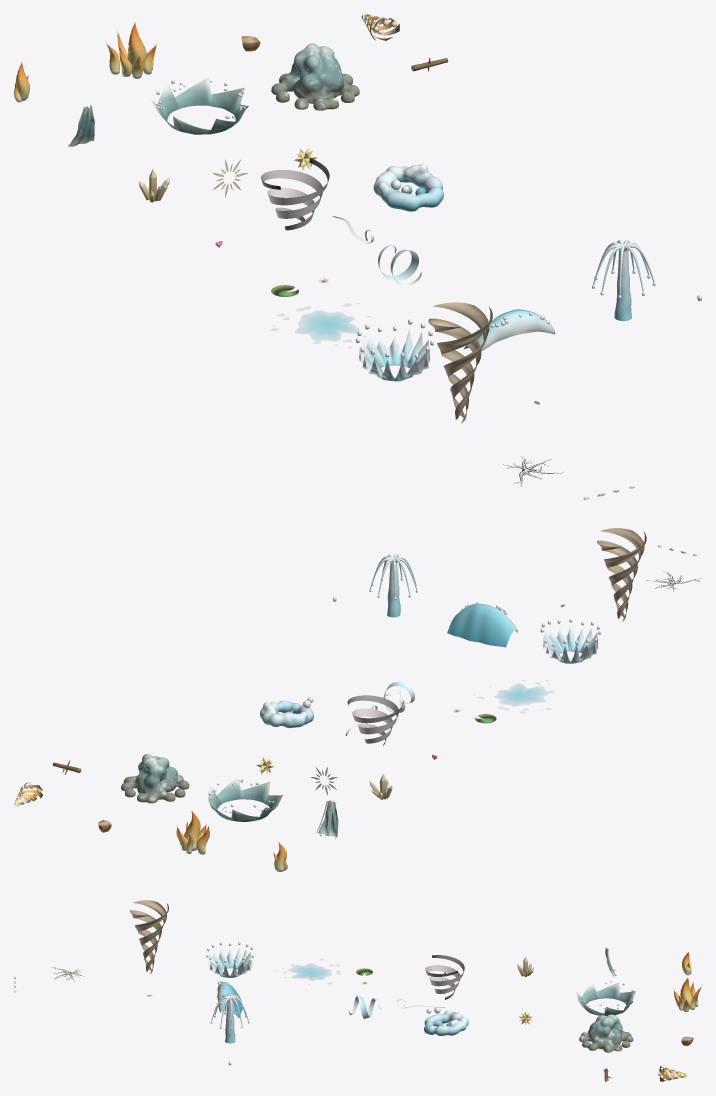
The model's file is impacto_fx.glb.
The picture shows the model from 3 angles, top to bottom: view 1: azimuth 30°, elevation 25°; view 2: azimuth 150°, elevation 25°; view 3: azimuth 270°, elevation 25°; orthographic projection. The views are drawn at different scales.
Parts seen in each view (by area): view 1: Enxurrada, Redemoinho, Correnteza, Coroa, Nuvem, Vento, Jato, Espuma, Onda, Labareda; view 2: Enxurrada, Onda, Redemoinho, Correnteza, Coroa, Vento, Nuvem, Jato, Espuma, Labareda, Cachoeira; view 3: Enxurrada, Redemoinho, Correnteza, Coroa, Nuvem, Vento, Jato, Espuma, Labareda, Onda, Espiral.
Part boxes in pixels (<box>): Enxurrada: <box>271,43,359,110</box>; Redemoinho: <box>428,302,492,423</box>; Correnteza: <box>151,77,248,134</box>; Coroa: <box>355,319,433,381</box>; Nuvem: <box>373,164,443,211</box>; Vento: <box>261,158,329,230</box>; Jato: <box>592,240,655,321</box>; Espuma: <box>270,303,370,348</box>; Onda: <box>464,309,555,350</box>; Labareda: <box>106,22,156,78</box>; Enxurrada: <box>121,754,189,803</box>; Onda: <box>447,602,518,647</box>; Redemoinho: <box>597,528,646,621</box>; Correnteza: <box>208,778,282,821</box>; Coroa: <box>540,618,601,663</box>; Vento: <box>347,695,403,745</box>; Nuvem: <box>260,697,313,728</box>; Jato: <box>369,554,417,617</box>; Espuma: <box>473,679,554,713</box>; Labareda: <box>176,811,209,854</box>; Cachoeira: <box>316,800,338,838</box>; Enxurrada: <box>579,1014,633,1052</box>; Redemoinho: <box>130,900,168,973</box>; Correnteza: <box>576,981,635,1015</box>; Coroa: <box>206,941,253,977</box>; Nuvem: <box>424,1007,468,1035</box>; Vento: <box>425,955,464,999</box>; Jato: <box>210,994,249,1043</box>; Espuma: <box>275,958,340,986</box>; Labareda: <box>673,978,701,1011</box>; Onda: <box>217,980,242,1018</box>; Espiral: <box>348,996,380,1018</box>.
Size of the model in its own units: 10.76 by 3.21 by 25.61.
